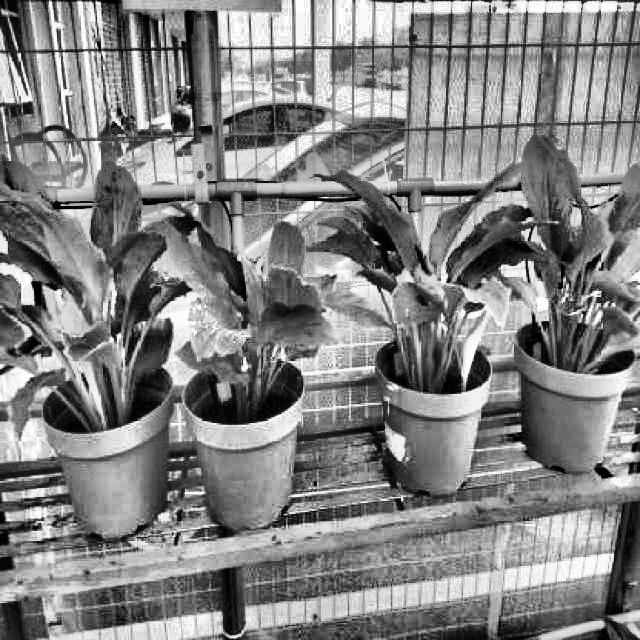plants: (310, 148, 538, 398), (1, 151, 202, 434), (156, 192, 358, 434), (511, 133, 640, 374)
